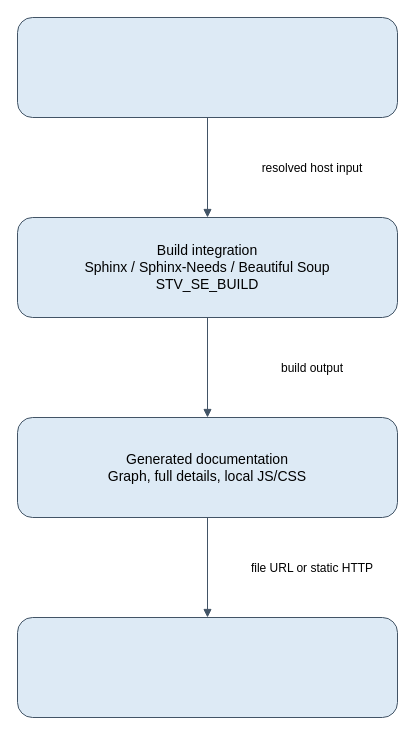
This 415x735 diagram has some shape labels left out. The box of each missing label's shape, as (x1, y1, x2, y2) in pixels:
Browser runtime ELK.js / D3 zoom / Floating UI STV_SE_BROWSER: (16, 616, 398, 718)
Host Sphinx-Needs project External: RST, model, Needs: (16, 16, 398, 118)
